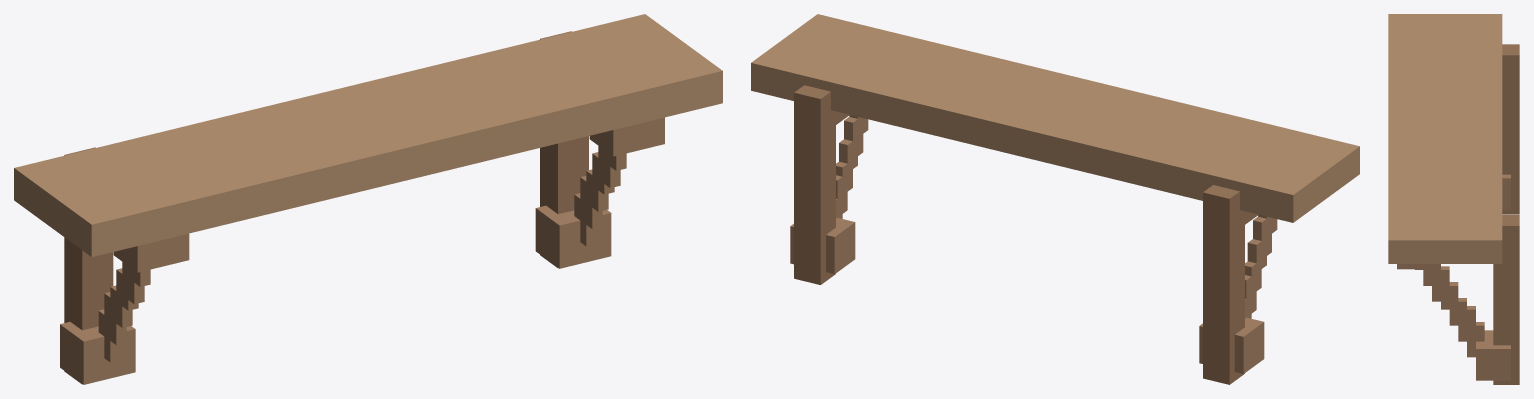
The model's file is etagere_murale.glb.
3 renders of one model, left to right at view 1: azimuth 30°, elevation 25°; view 2: azimuth 150°, elevation 25°; view 3: azimuth 270°, elevation 25°, orthographic. The views are drawn at different scales.
Visible parts, largest first — view 1: Etagere wood, Etagere brace, Etagere support; view 2: Etagere wood, Etagere support, Etagere brace; view 3: Etagere wood, Etagere support, Etagere brace.
Part boxes in pixels (box(x1,y1,x2,y2)): Etagere wood: box(14, 14, 722, 256); Etagere brace: box(60, 117, 664, 384); Etagere support: box(64, 31, 588, 384); Etagere wood: box(751, 14, 1359, 222); Etagere support: box(794, 85, 1258, 384); Etagere brace: box(790, 115, 1277, 373); Etagere wood: box(1388, 14, 1502, 263); Etagere support: box(1493, 44, 1519, 384); Etagere brace: box(1397, 174, 1510, 380).
Size of the model in its own units: 4.88 by 1.68 by 1.2.
